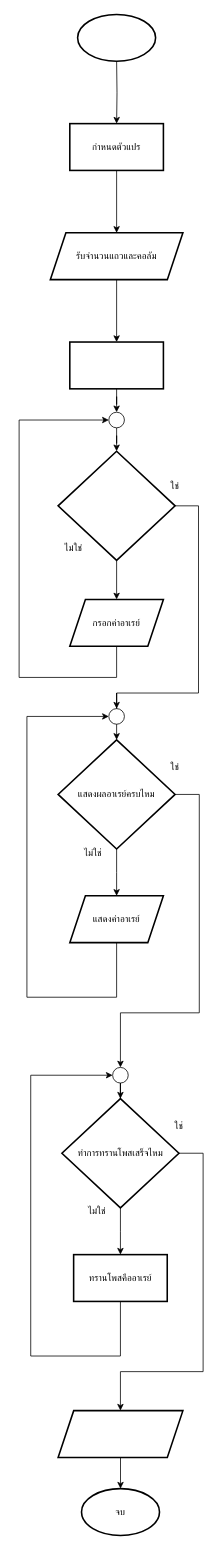
Image size: 223x1549. Some labels were removed from this diagram. The box of each missing label's shape, as (x1, y1, x2, y2) in pixels:
กรอกค่าอาเรย์ครบไหม: (57, 450, 176, 561)
กำหนดตัวแปรอาเรย์และทรานโพส: (69, 341, 164, 389)
เริ่ม: (76, 13, 156, 62)
แสดง่าที่ทรานโพสแล้ว: (57, 1409, 183, 1458)
